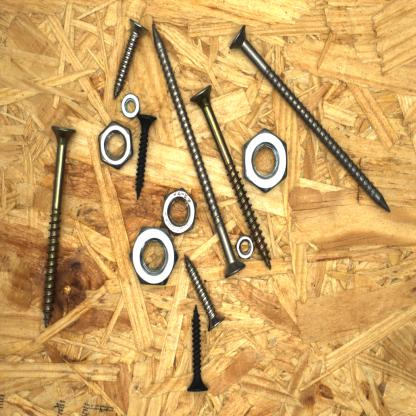screw: (229, 23, 393, 215), (150, 20, 247, 280), (189, 81, 274, 271), (42, 123, 78, 330), (182, 250, 228, 334), (112, 13, 150, 101), (181, 301, 211, 396), (134, 111, 158, 201)
